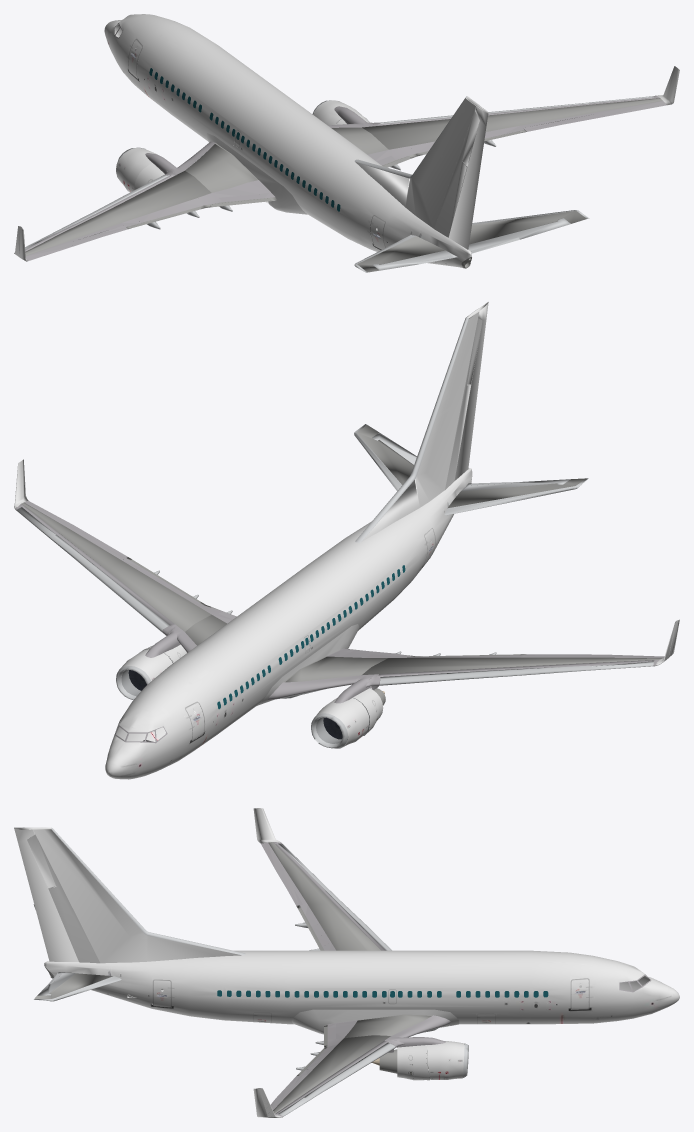
3 renders of one model, top to bottom at view 1: azimuth 30°, elevation 25°; view 2: azimuth 150°, elevation 25°; view 3: azimuth 270°, elevation 25°, orthographic. The views are drawn at different scales.
Visible parts, largest first — view 1: EexitLH, Circle_006; view 2: EexitLH, Circle_006; view 3: EexitLH, Circle_006.
Part boxes in pixels (bbox=[...]): EexitLH: bbox=[14, 14, 679, 268]; Circle_006: bbox=[25, 23, 667, 272]; EexitLH: bbox=[14, 301, 679, 779]; Circle_006: bbox=[15, 317, 664, 748]; EexitLH: bbox=[14, 808, 679, 1117]; Circle_006: bbox=[33, 827, 651, 1117].
Size of the model in its own units: 34.85 by 12.08 by 34.93.
2 materials, 2 textured.
